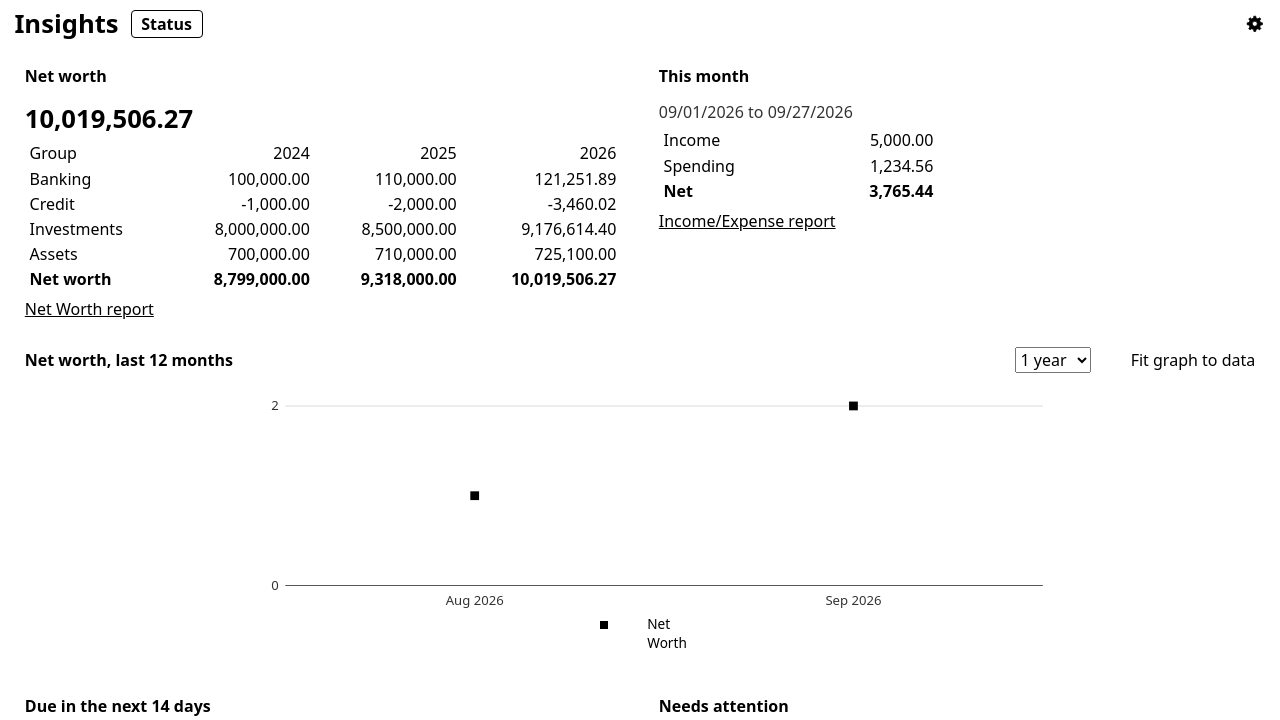
Test: Insights: tabs and the gear (INS-010 … INS-030) › Create shows a new tab with the modal; Cancel drops it and makes nothing
The image size is (1280, 720).
Step 1. Click the button named "Insight options" → (1254, 24), box [1243,13,1266,35]
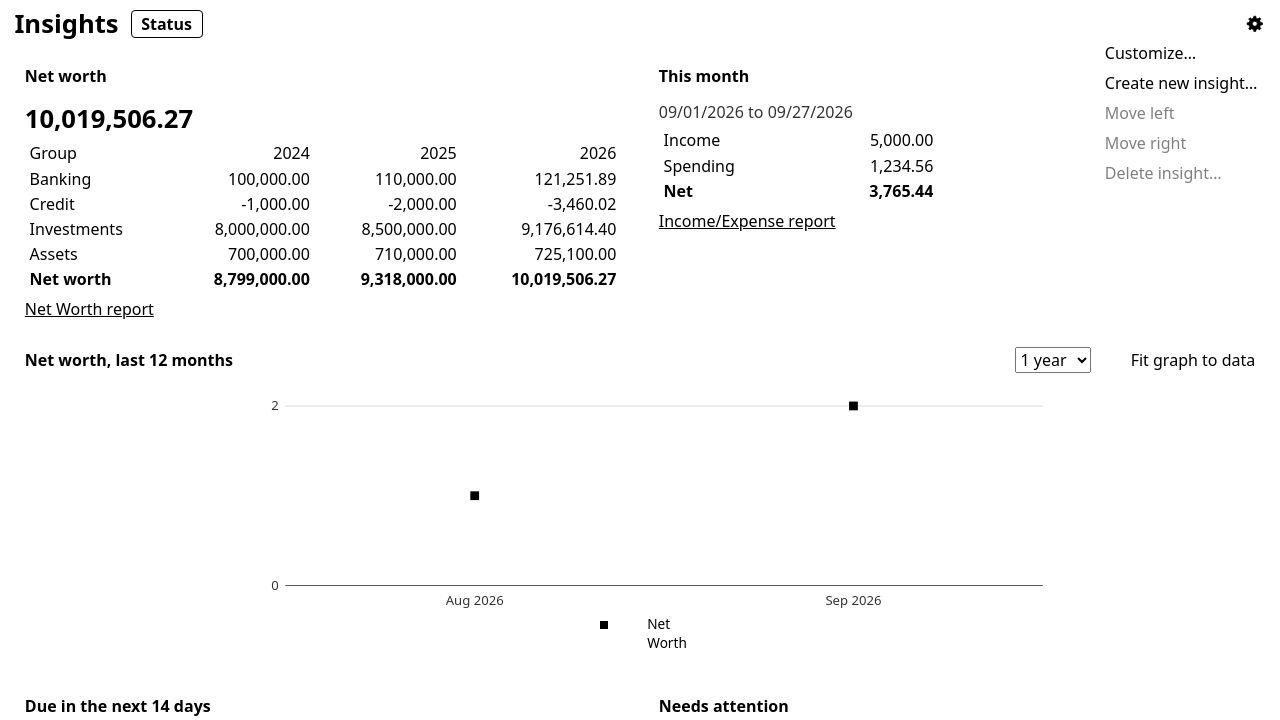
Step 2. Click the menu item "Create new insight…" → (1185, 83), box [1097,68,1273,98]
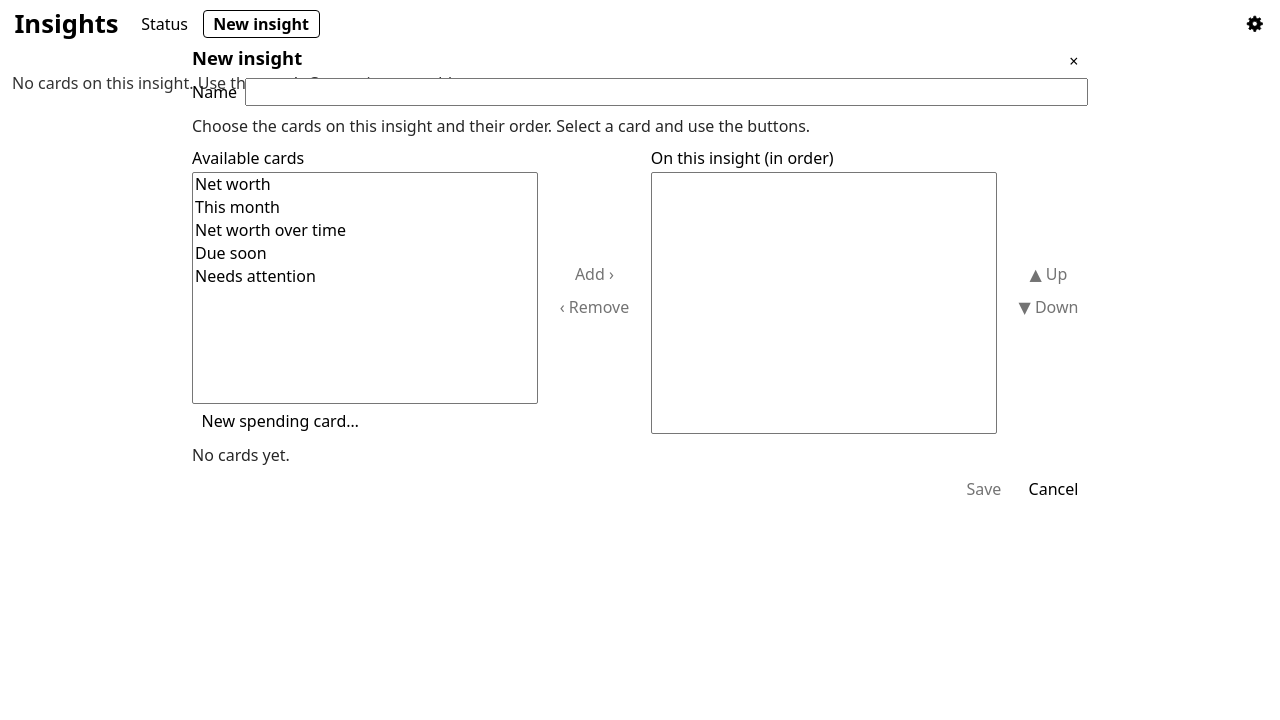
Step 3. Click the button "Cancel" → (1054, 489), box [1019,475,1088,502]
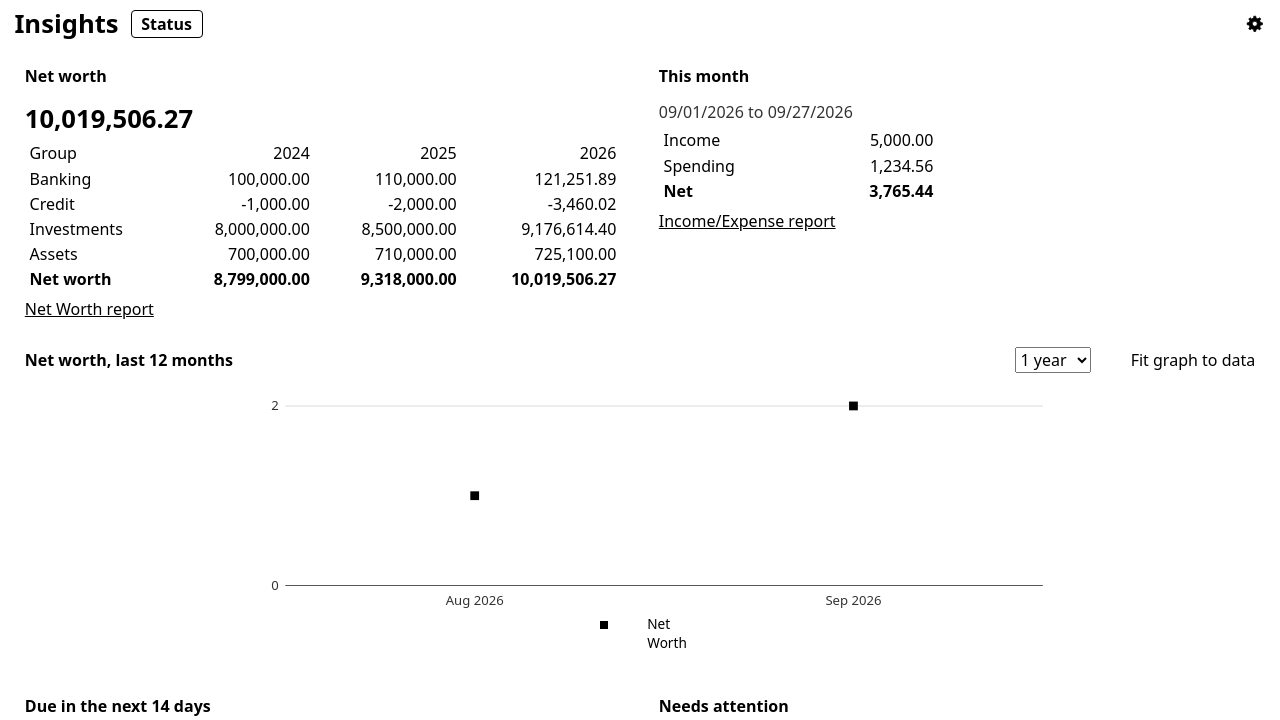
Check: the dialog is gone
